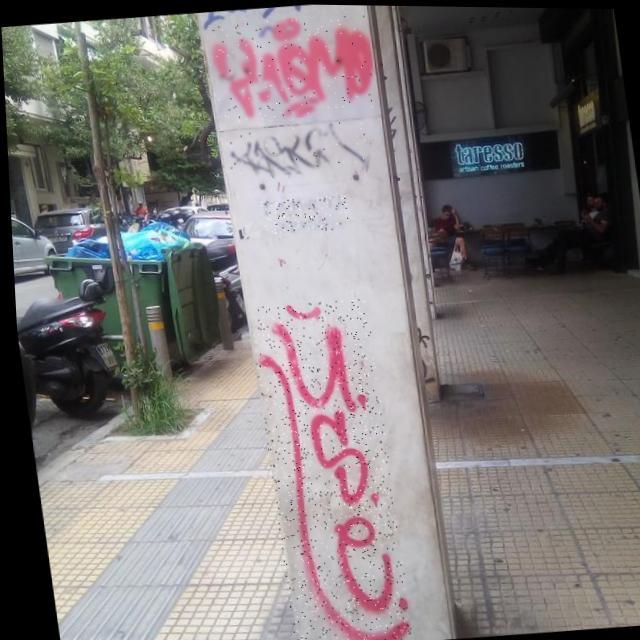-: (244, 296, 407, 640), (206, 10, 378, 124), (222, 118, 371, 180), (258, 192, 348, 235)
